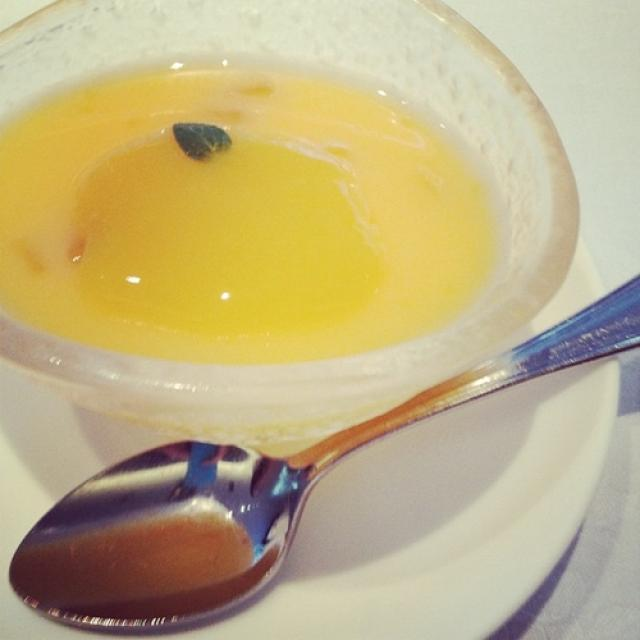蛋糕甜品: (4, 3, 635, 636)
